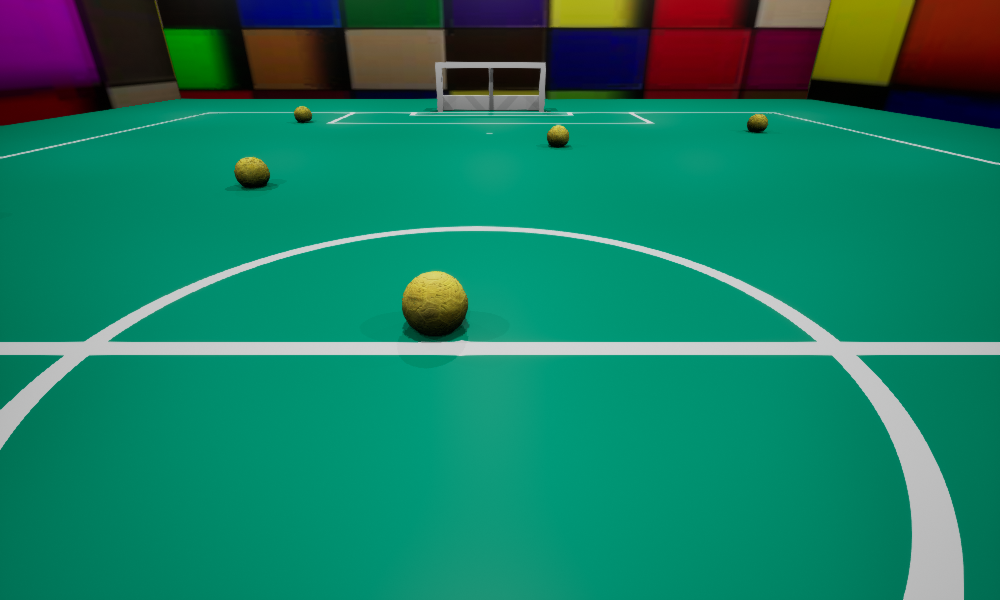b: (402, 271, 467, 335), (234, 157, 269, 187), (547, 125, 568, 146), (747, 114, 767, 131), (294, 106, 311, 122)
g: (435, 62, 545, 111)
